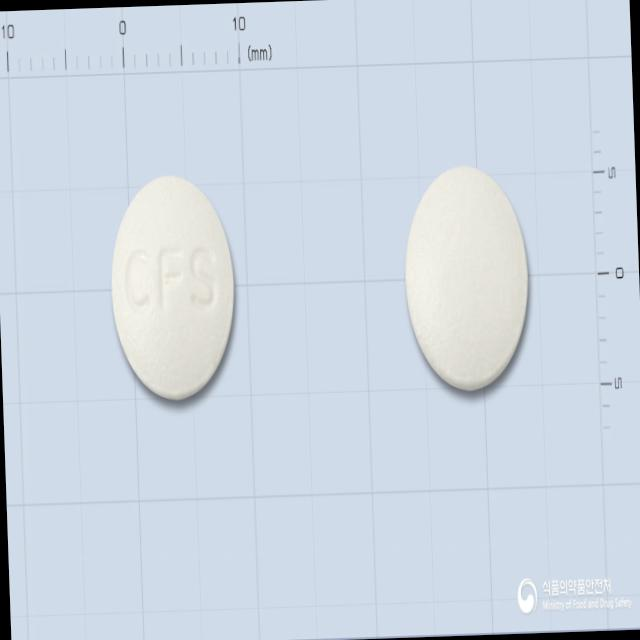Ciproxin: (105, 165, 243, 408)
